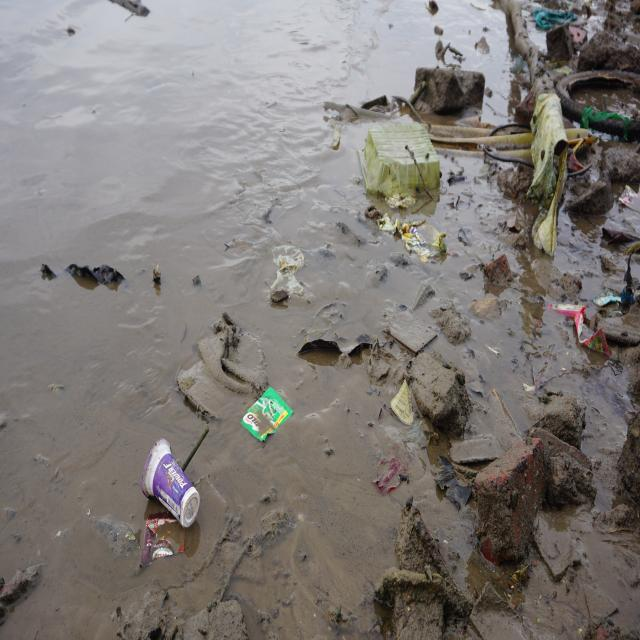Bungkus Makanan: (358, 118, 447, 201), (383, 211, 450, 276)
Bungkus Minuman: (142, 434, 202, 529), (242, 384, 293, 448), (142, 513, 188, 569)
Kantong Plastik: (535, 7, 577, 32)
